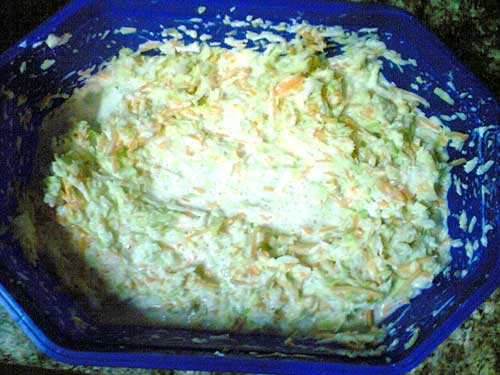cabbage: (19, 22, 474, 362)
